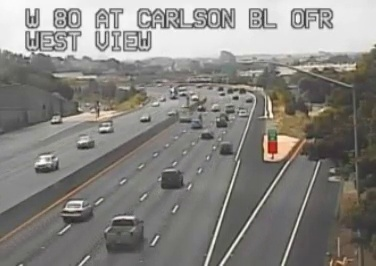car: (105, 216, 143, 249), (62, 200, 91, 219), (161, 169, 183, 187), (220, 143, 232, 154)
